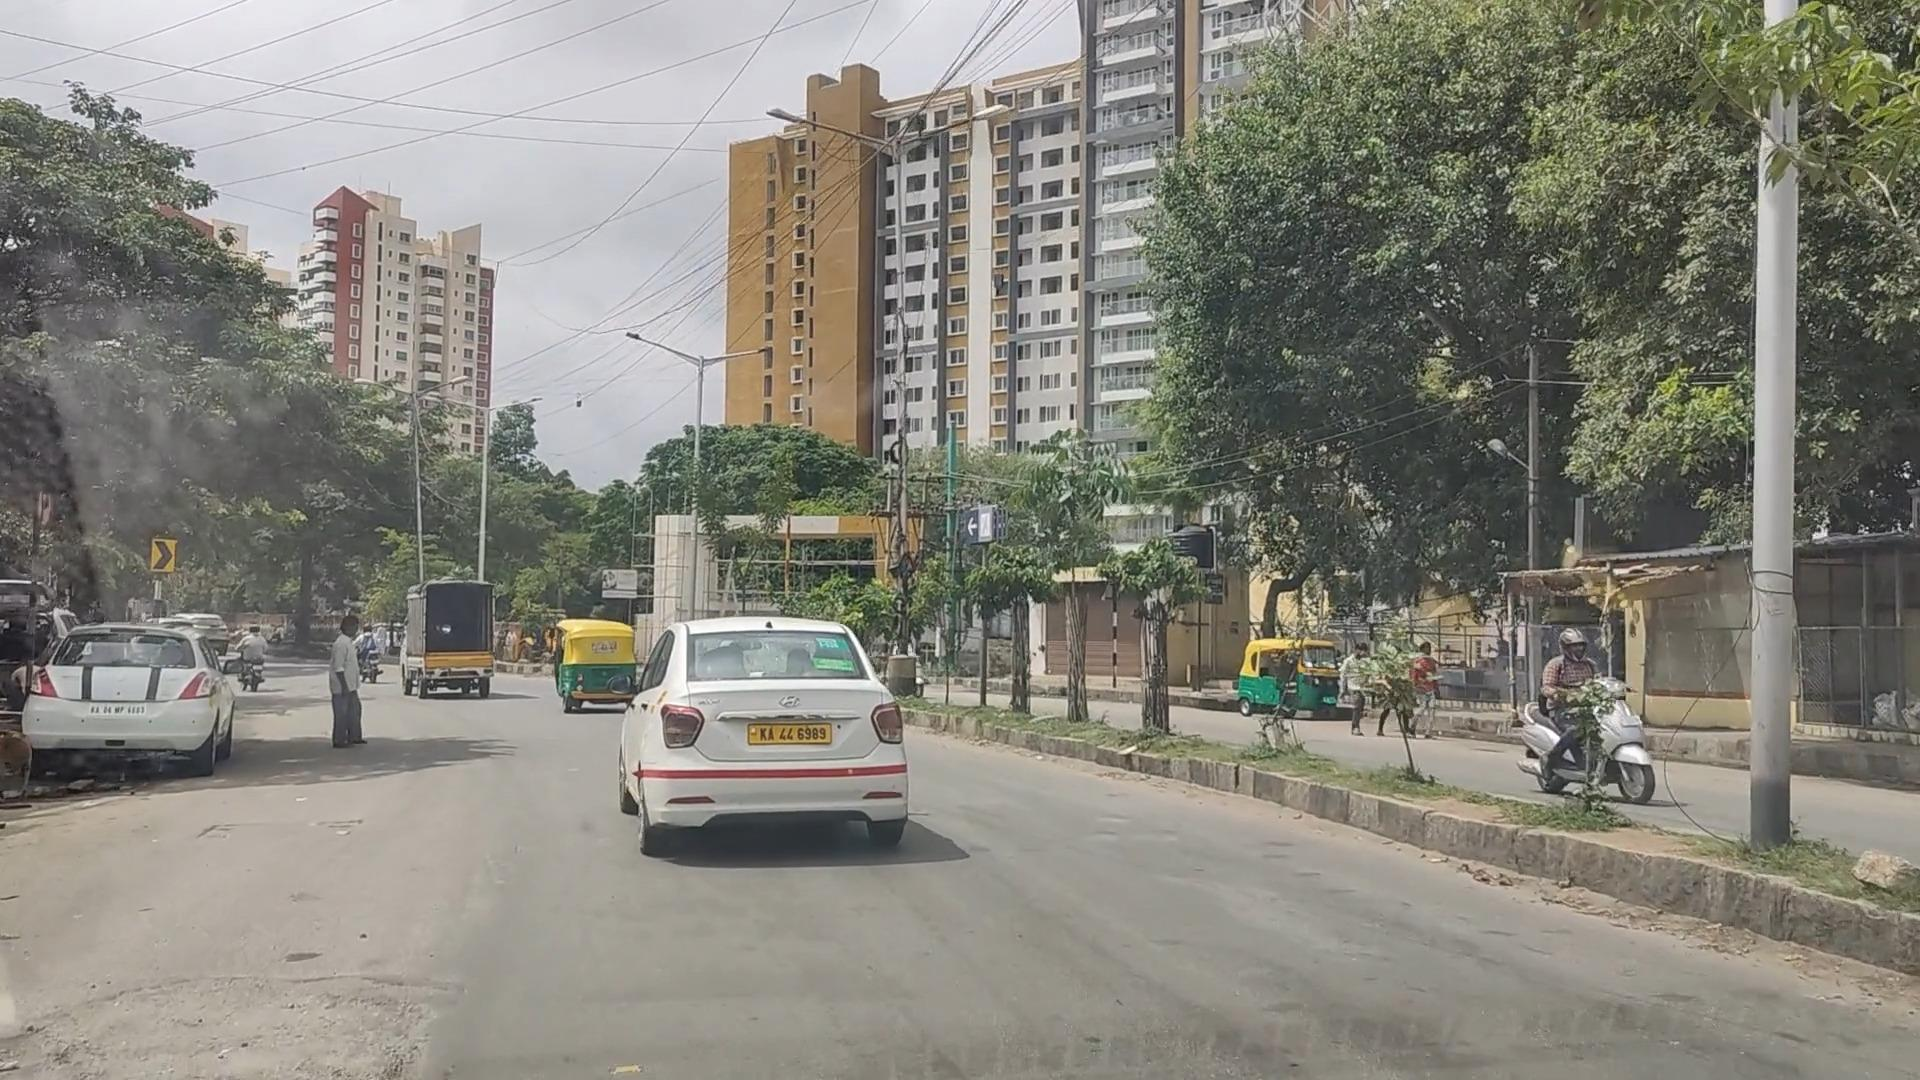LMV: (620, 595, 931, 852)
RoadDamages: (69, 943, 452, 1080)
